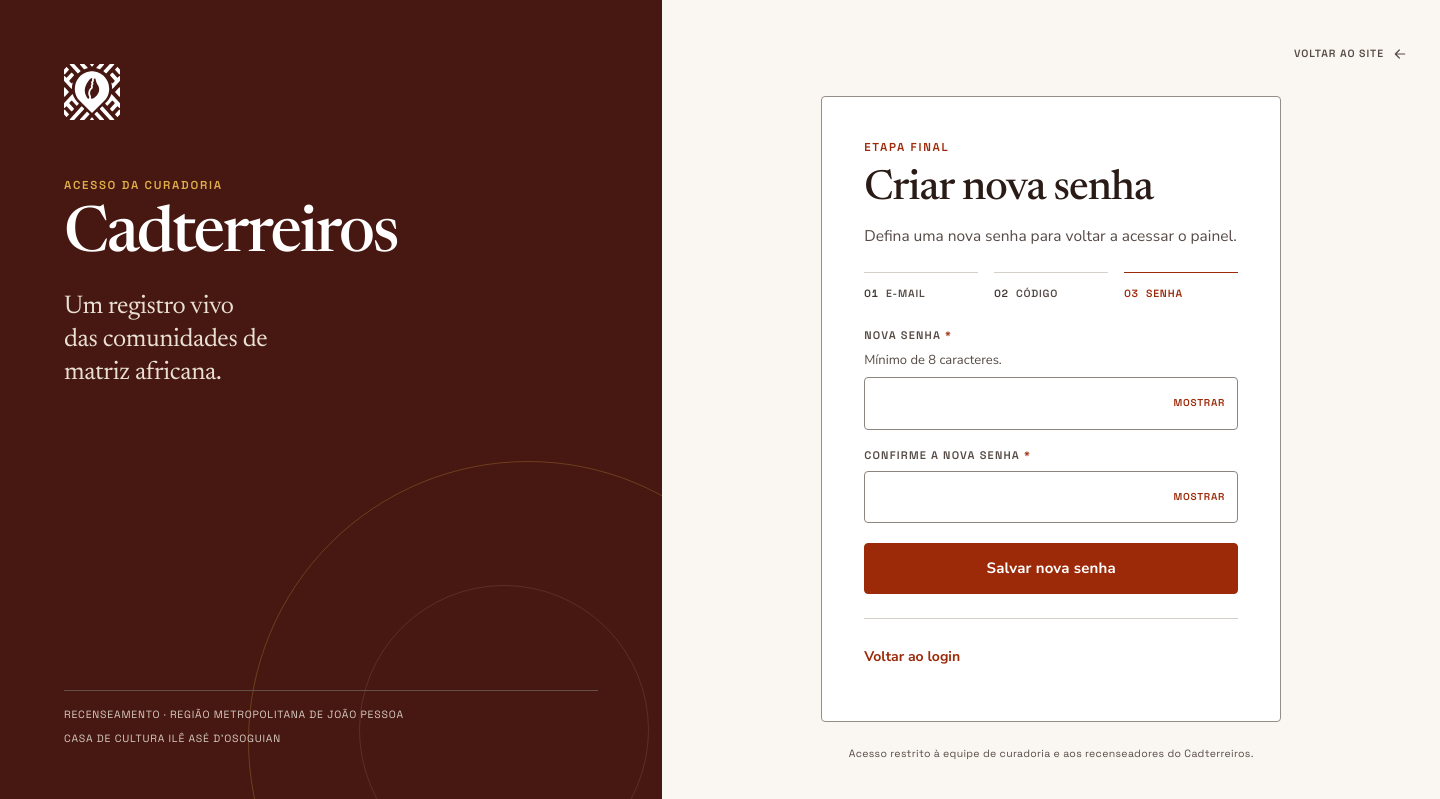
Scenario: SetPassword › valida tamanho mínimo e confirmação
Type "123" into the password field labelled "Nova senha *". click: (1051,404)
box: top-left (864, 377), bottom-right (1238, 430)
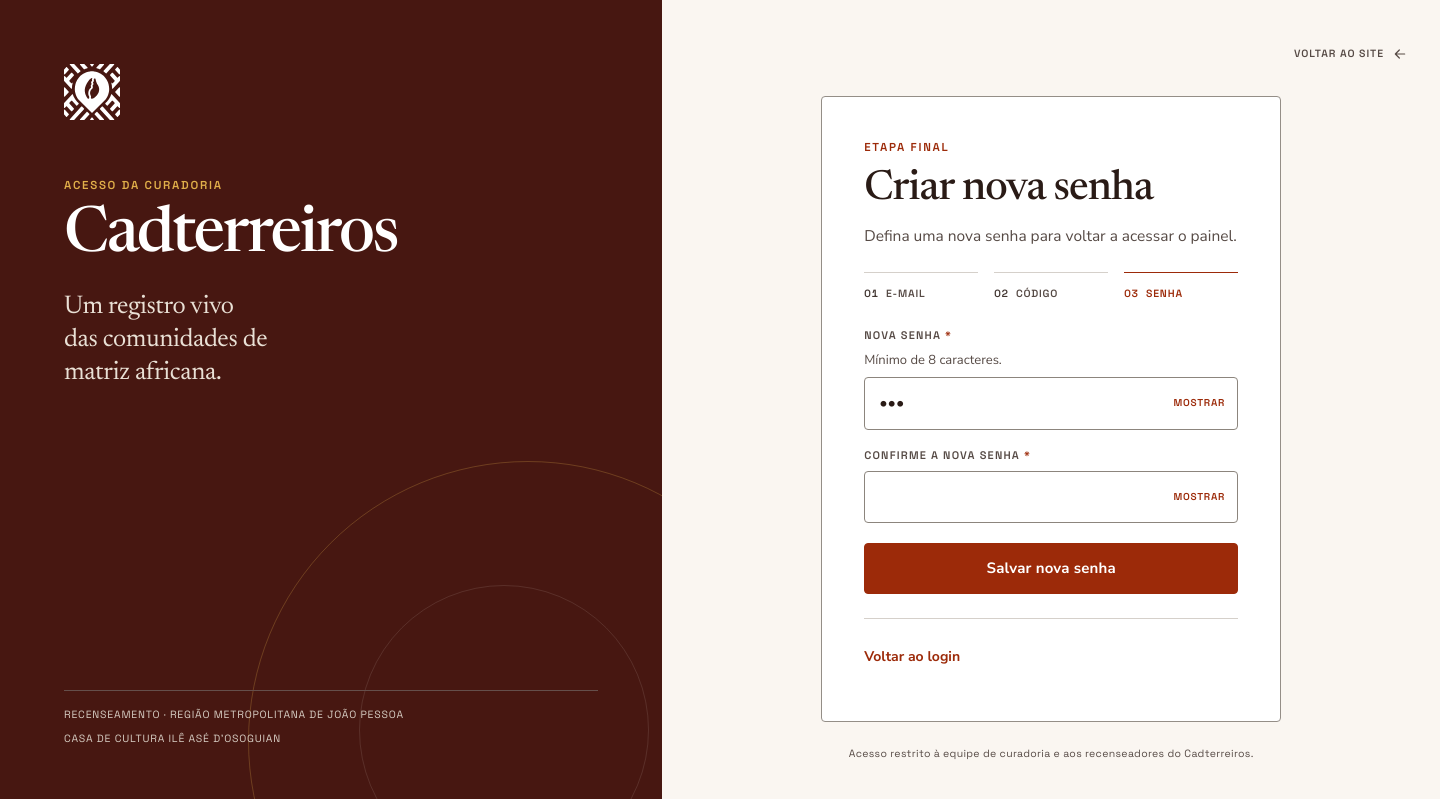
Type "321" into the password field labelled "Confirme a nova senha *". click: (1051,497)
box: top-left (864, 471), bottom-right (1238, 523)
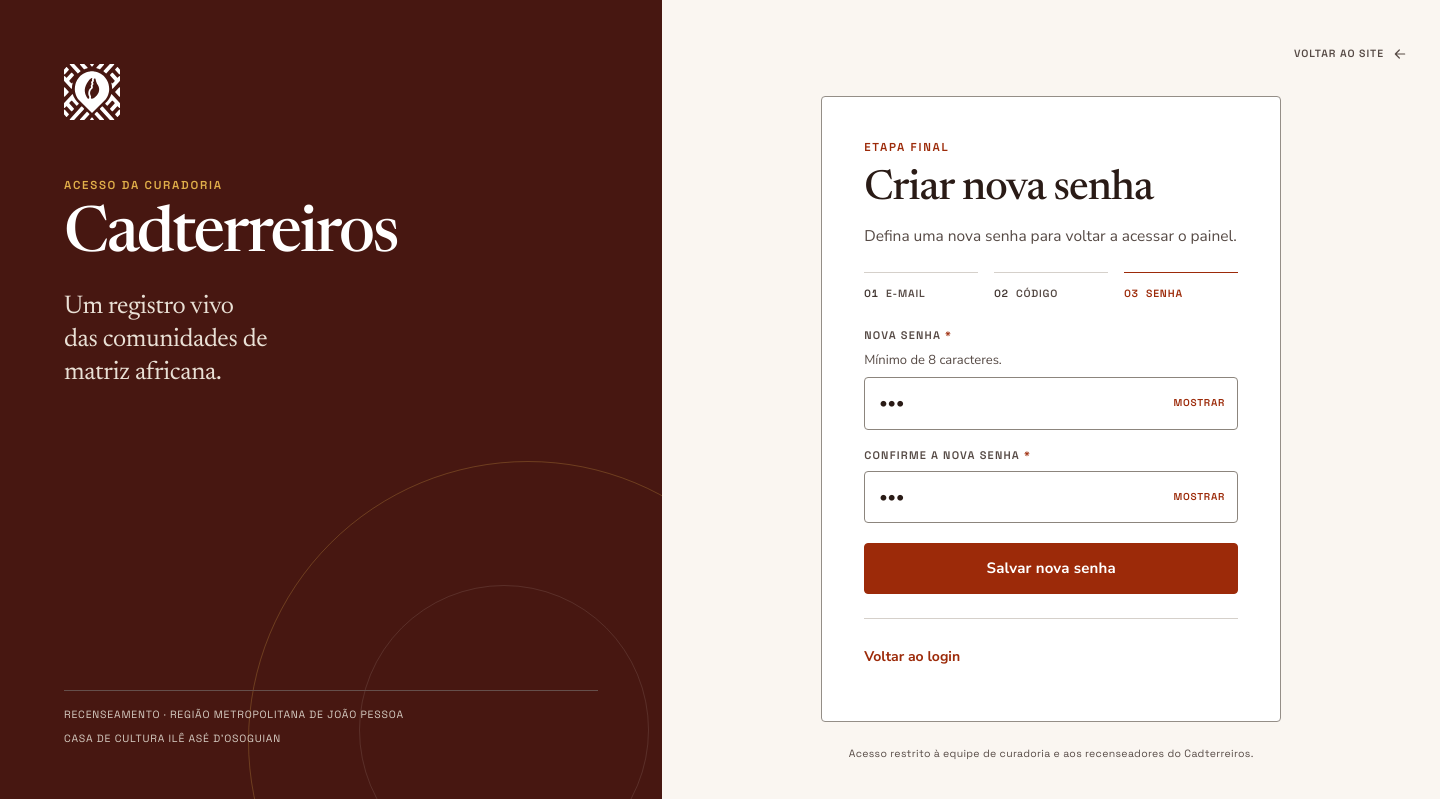
Click the button "Salvar nova senha". click: (1051,569)
box: top-left (864, 543), bottom-right (1238, 594)
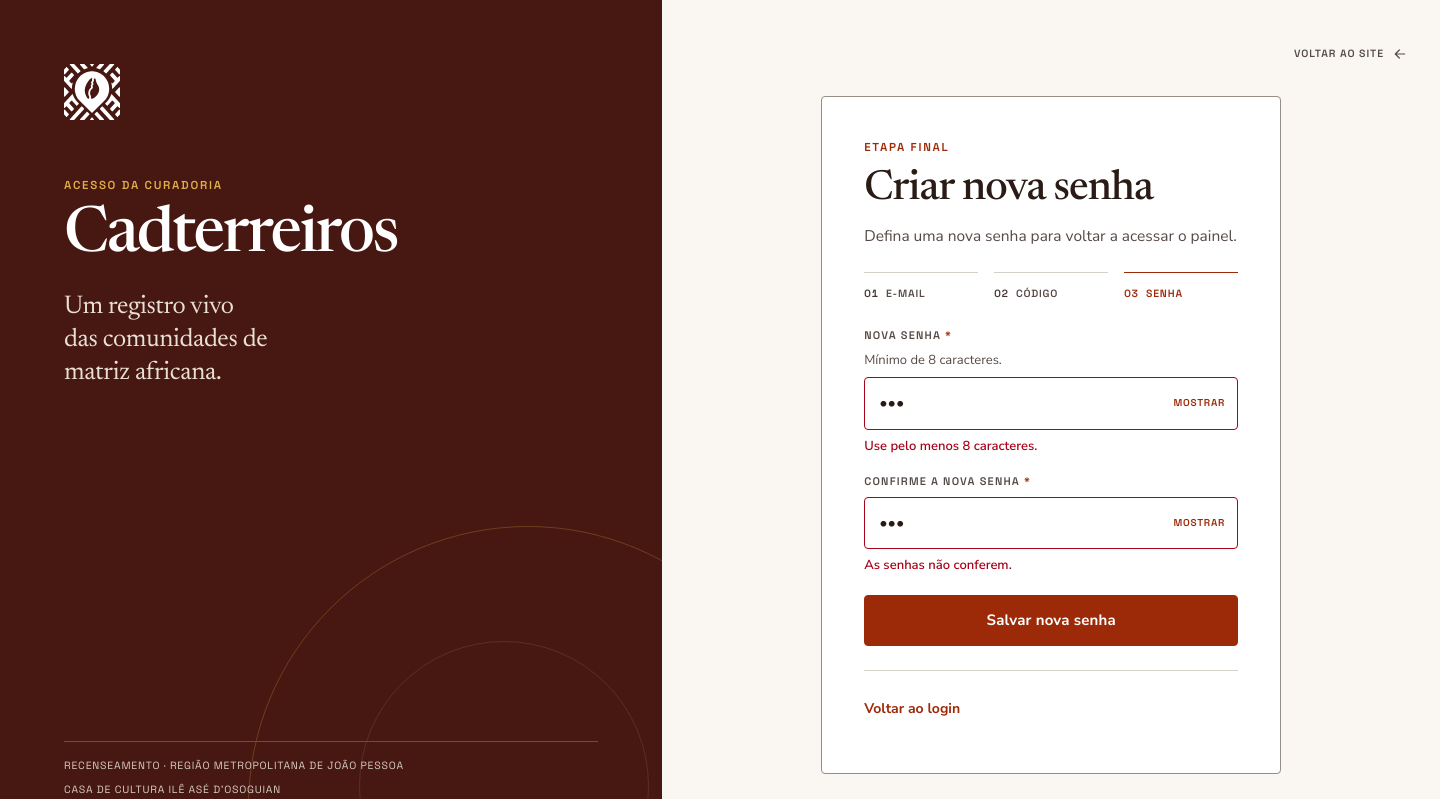
Check: the text "Use pelo menos 8 caracteres." is shown, box top-left (864, 437), bottom-right (1037, 455)
Check: the text "As senhas não conferem." is shown, box top-left (864, 556), bottom-right (1012, 574)
